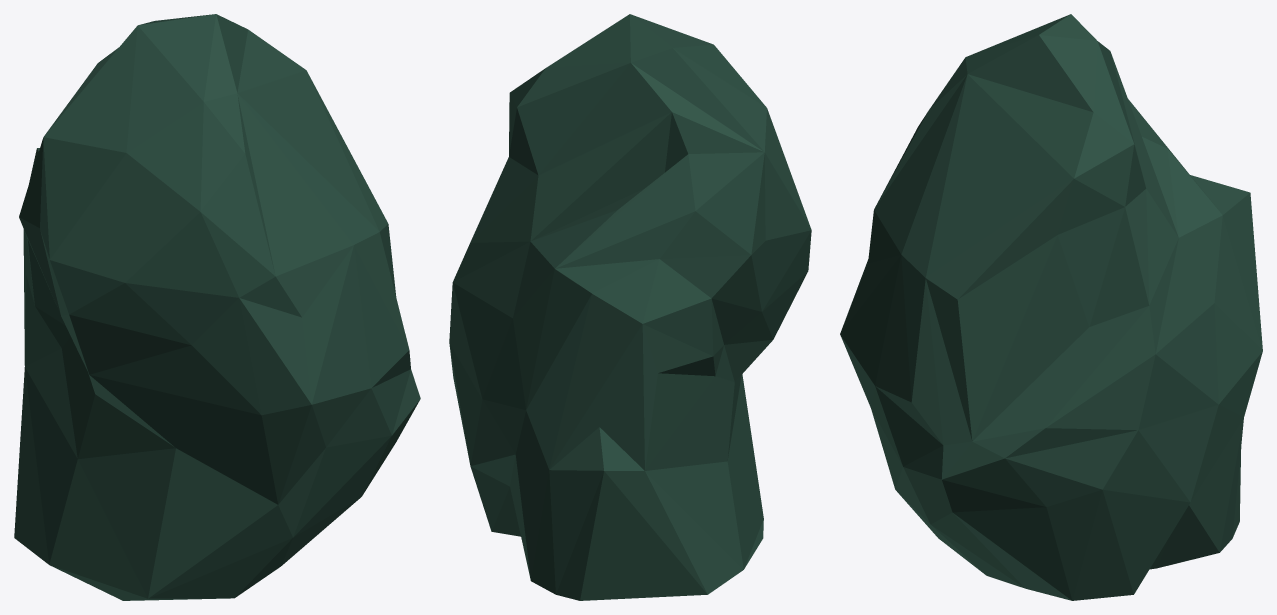
The model's file is SM_large_rock_08.fbx.
3 renders of one model, left to right at view 1: azimuth 30°, elevation 25°; view 2: azimuth 150°, elevation 25°; view 3: azimuth 270°, elevation 25°, orthographic. The views are drawn at different scales.
Visible parts, largest first — view 1: large_rock_08; view 2: large_rock_08; view 3: large_rock_08.
Part boxes in pixels (bbox=[...]): large_rock_08: bbox=[14, 14, 420, 600]; large_rock_08: bbox=[449, 14, 811, 600]; large_rock_08: bbox=[840, 14, 1262, 600].
Bounding box in the file's own units: 49.25 × 75.24 × 53.92.
